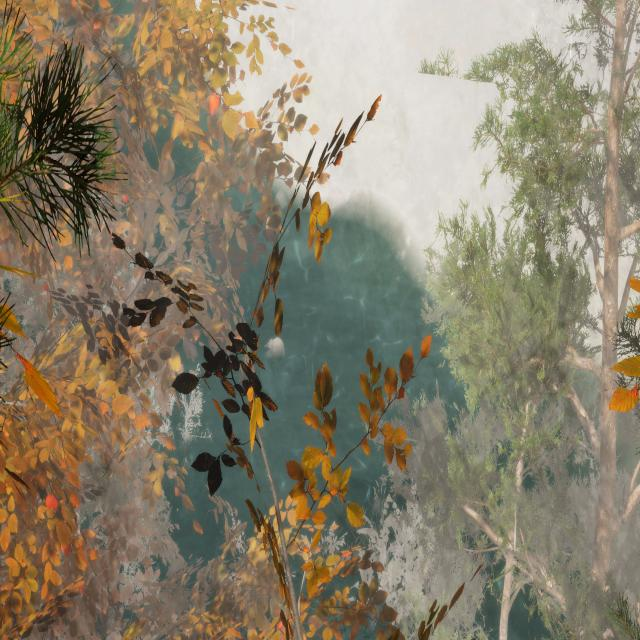Human: (260, 328, 340, 430)
